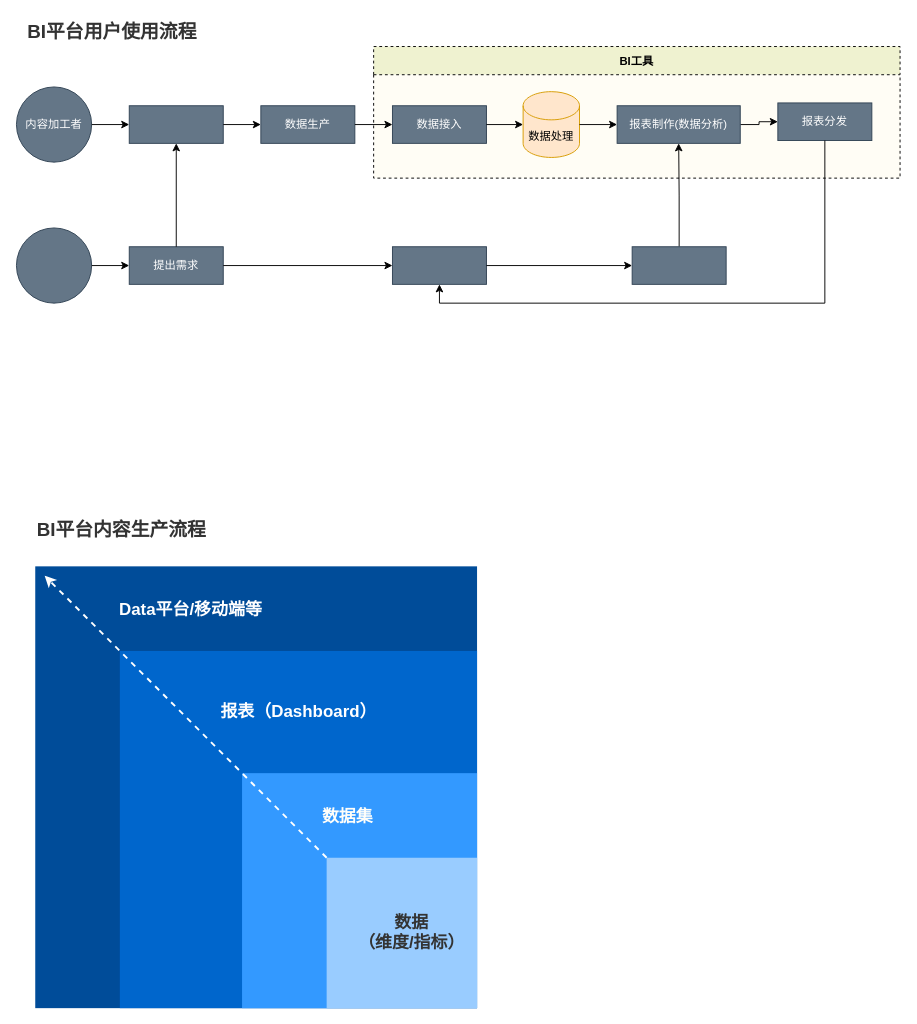
Some shapes in this 917 by 1024 pixel diagram are drawn without their labels. The shapes that lost their labels are listed below. From the top down, each one's centre as x and y in pixels, then its label:
(x=175, y=124): 需求梳理
(x=54, y=265): 内容使用者
(x=439, y=265): 查看报表
(x=678, y=265): 使用反馈
